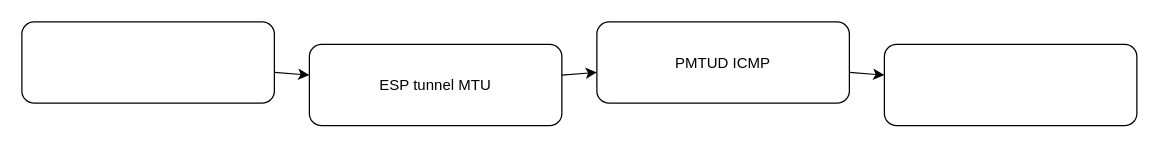
This 1159x148 diagram has some shape labels left out. The box of each missing label's shape, as (x1, y1, x2, y2) in pixels:
Sender resizes: (883, 43, 1137, 126)
TCP SYN MSS: (21, 21, 274, 103)
